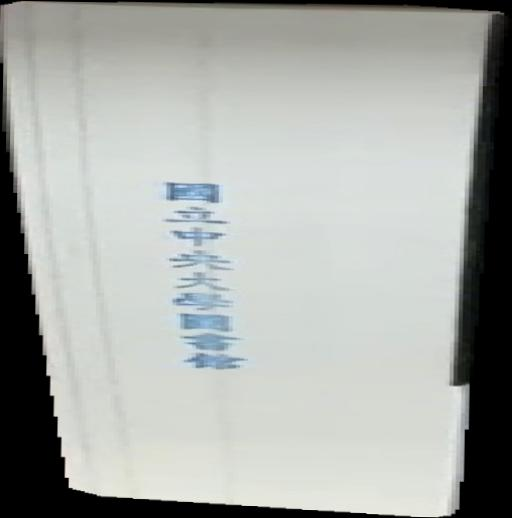backward: (1, 1, 512, 518)
